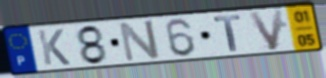6: (164, 16, 198, 59)
8: (74, 22, 109, 67)
K: (36, 28, 73, 67)
N: (117, 18, 162, 64)
T: (211, 13, 243, 53)
V: (246, 7, 287, 52)
